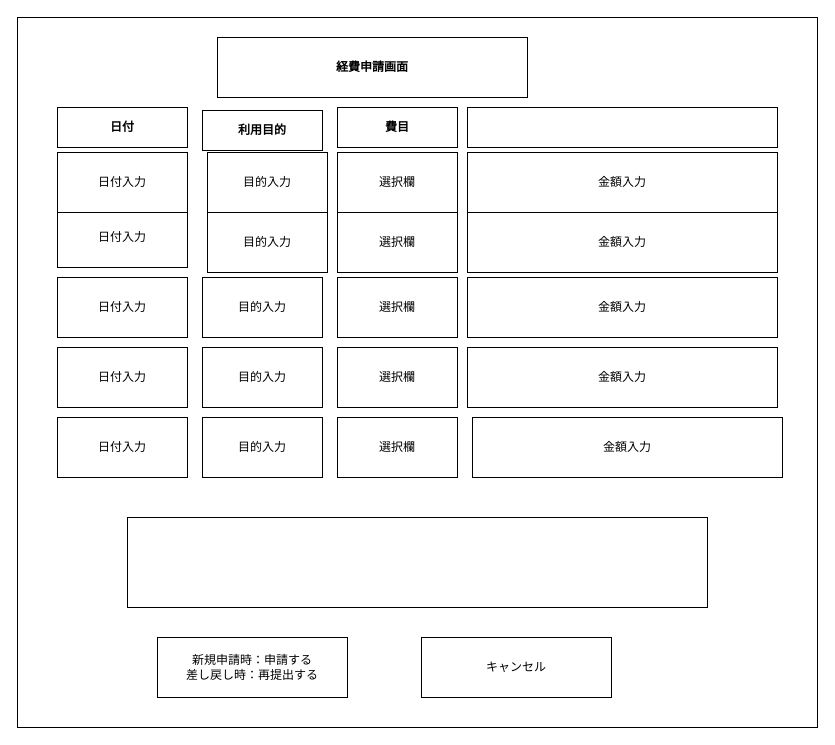
Image size: 835x745. Some labels were removed from this diagram. The centre of each missing label's shape, as x and y in pixels:
"差し戻し理由（差し戻し申請の修正時のみ表示・閲覧のみ）" belongs at pixel 417 562.
"金額" belongs at pixel 622 127.
